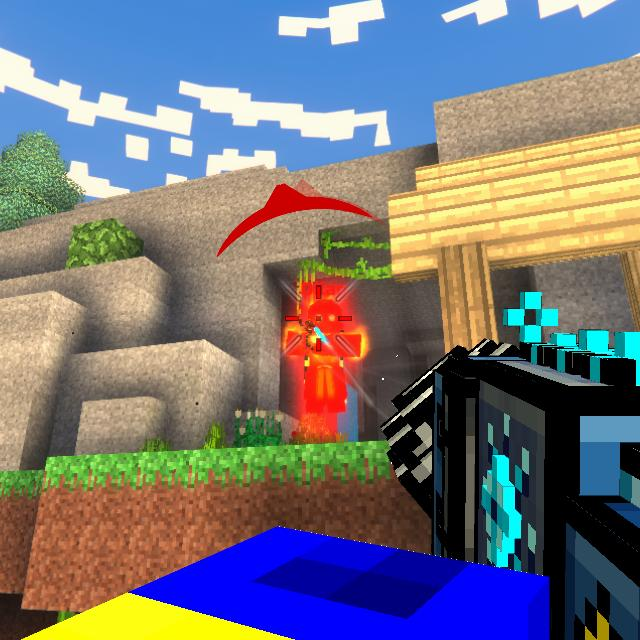Enemy: (285, 298, 361, 414)
